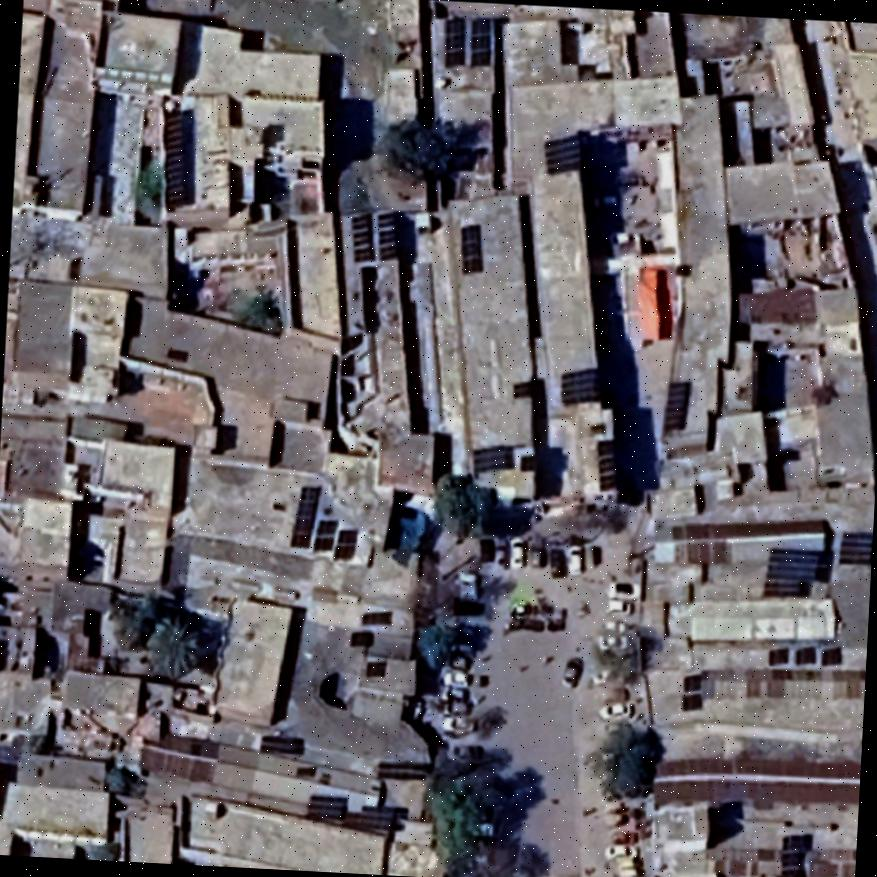Solarpanel: (154, 100, 198, 218), (758, 540, 832, 606), (438, 9, 500, 75), (284, 477, 327, 554), (538, 126, 588, 182), (555, 362, 607, 412), (466, 438, 520, 482), (589, 433, 625, 498), (454, 217, 490, 280), (659, 374, 695, 437), (835, 527, 873, 571), (678, 668, 708, 716), (310, 512, 342, 556), (330, 523, 364, 564), (358, 605, 397, 629), (361, 655, 391, 681), (347, 627, 378, 652), (518, 449, 541, 476)
